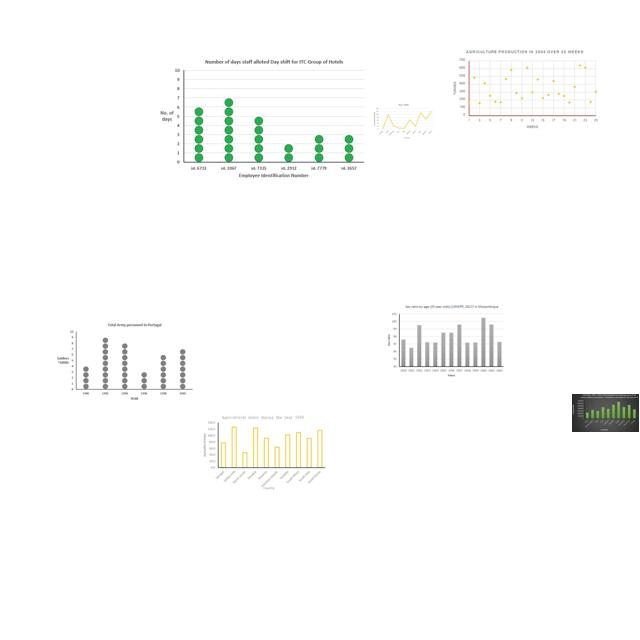Graph: (156, 54, 368, 185), (451, 48, 601, 132), (52, 320, 196, 404), (199, 413, 327, 490), (385, 303, 506, 378), (572, 394, 639, 432), (371, 102, 436, 141)
